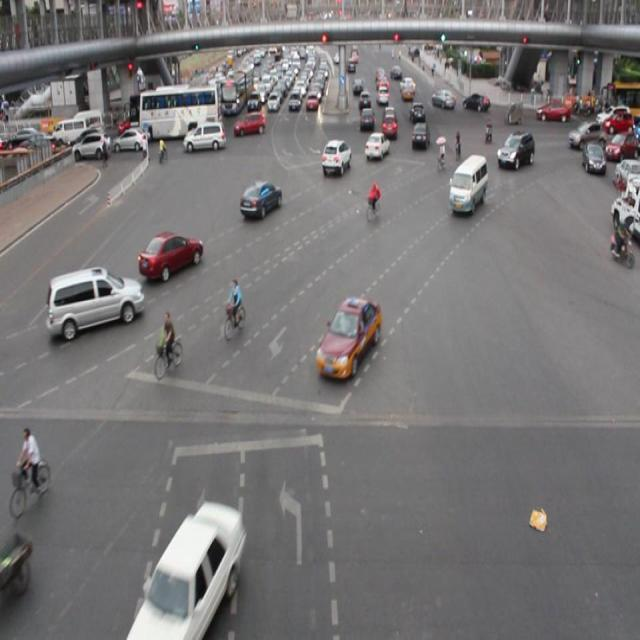BigCar: (138, 71, 220, 149)
car: (41, 273, 147, 340), (134, 221, 207, 286)
